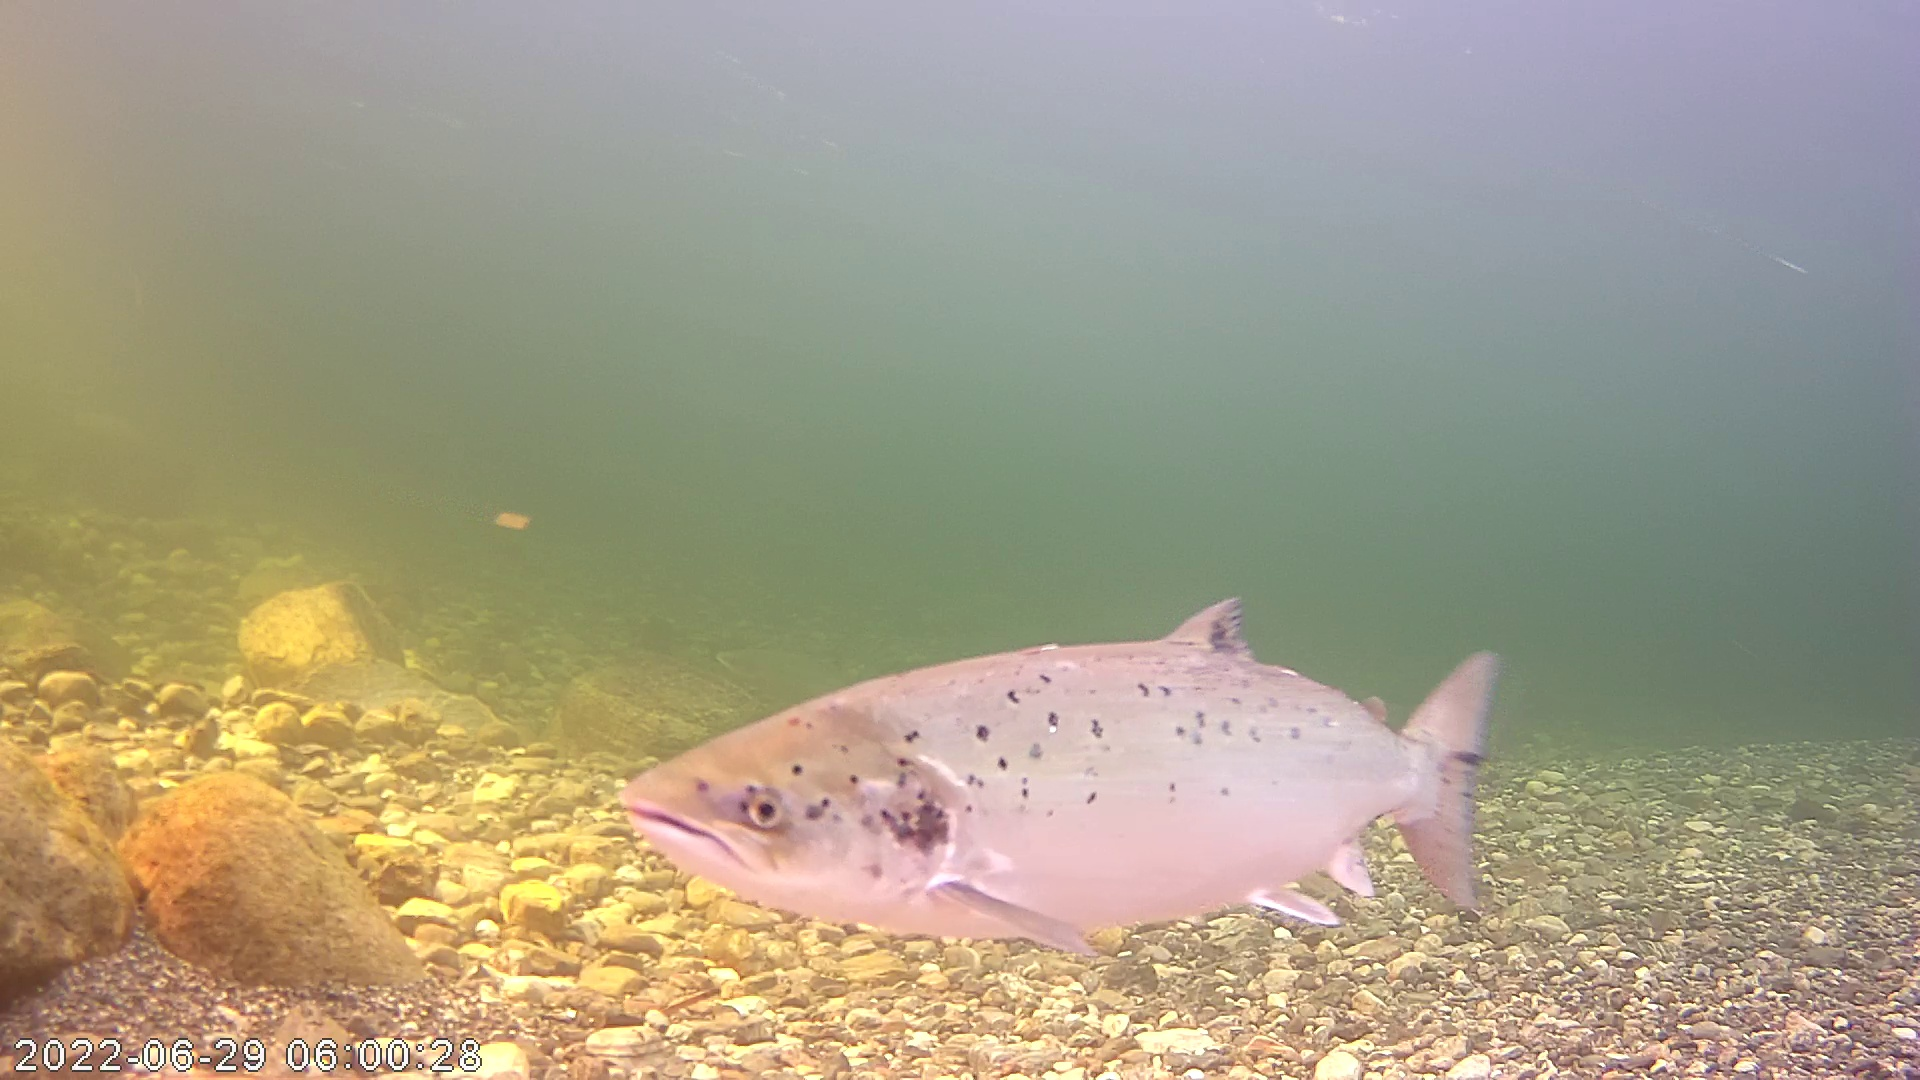salmon: (637, 514, 1516, 959)
